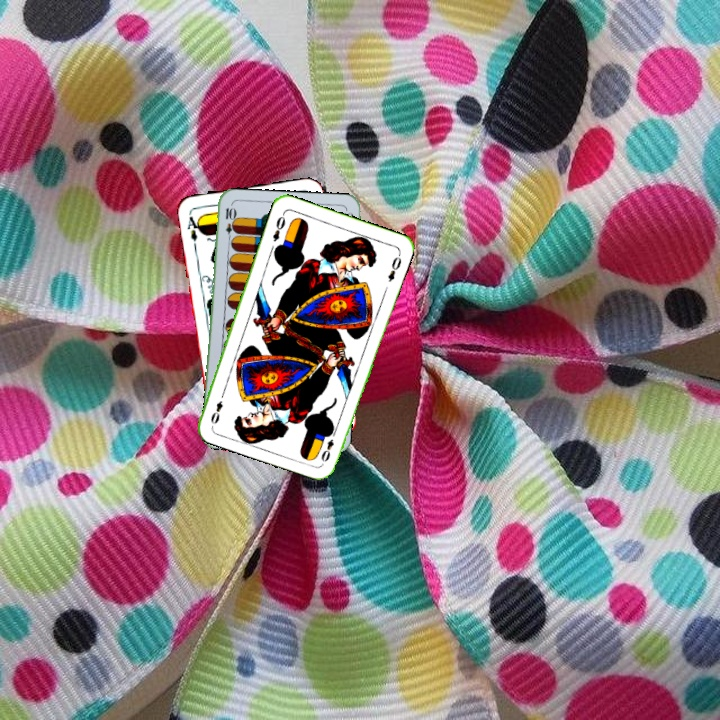E10: (221, 203, 236, 244)
EA: (183, 209, 203, 244)
EO: (317, 426, 339, 465), (268, 209, 288, 244)
